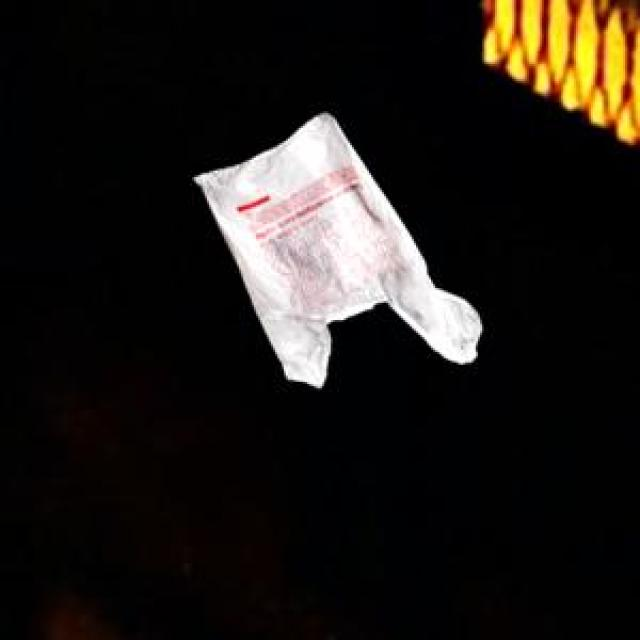plastic: (164, 96, 496, 420)
